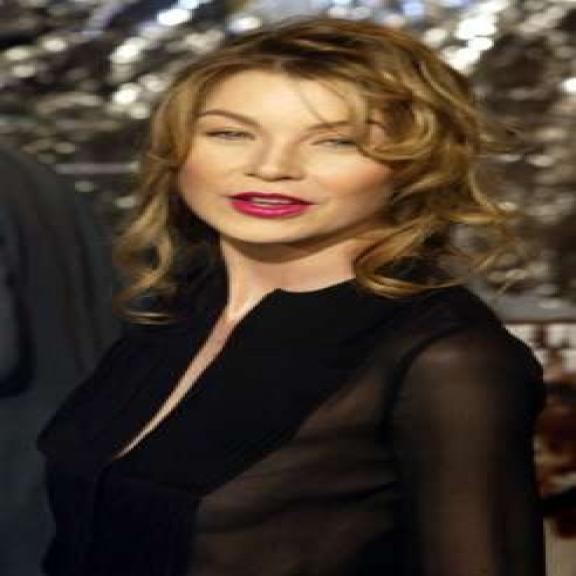face: (136, 50, 437, 248)
